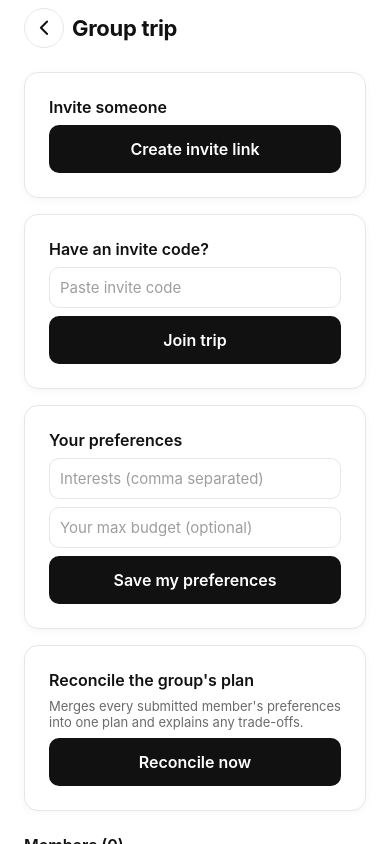
Test case: GroupInviteScreen › reconciles the group's plan and shows conflicts
This screenshot has width=390, height=844.
Click the button with test id "reconcile-button" at (195, 762), box [49, 738, 341, 786]
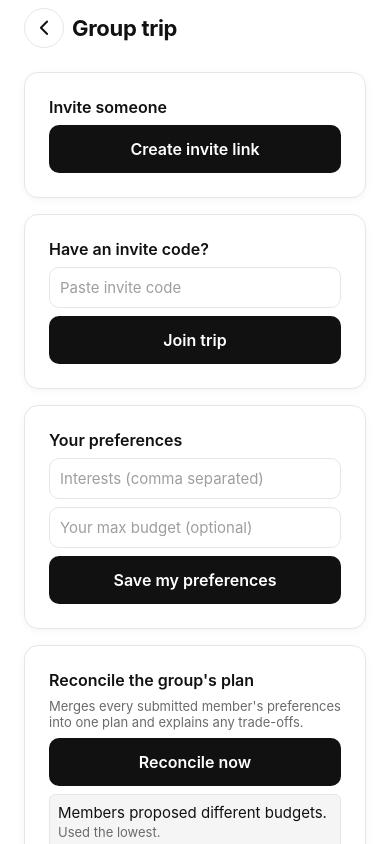
Check: the element with test id "conflict-0" is shown, box [49, 794, 341, 843]
Check: the text "Used the lowest." is shown, box [58, 824, 160, 840]
